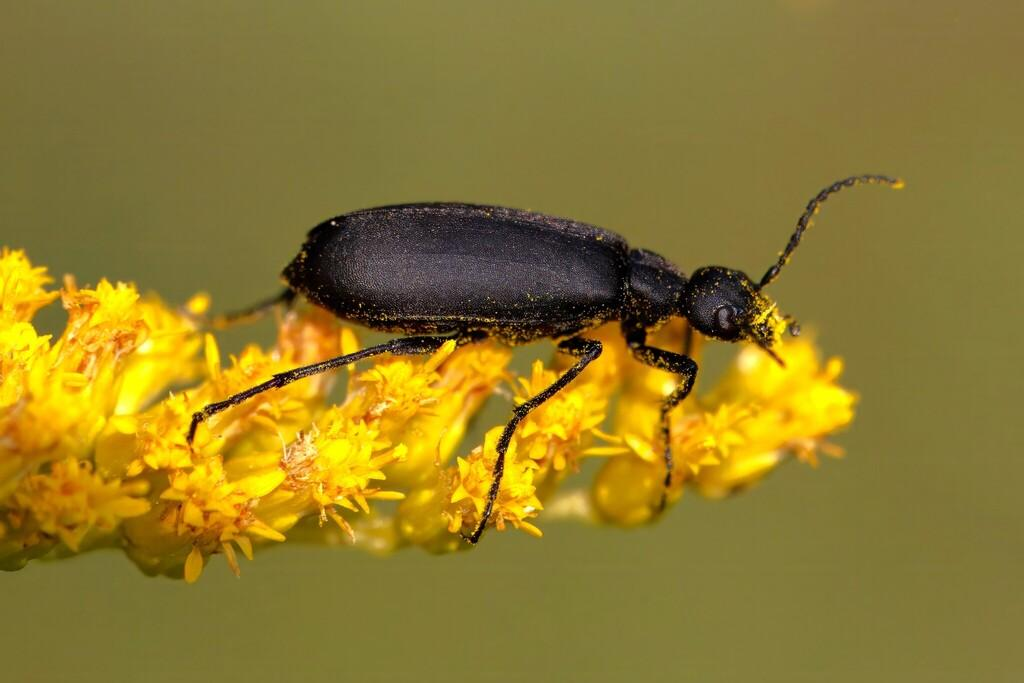blister_beetle: (143, 120, 925, 581)
